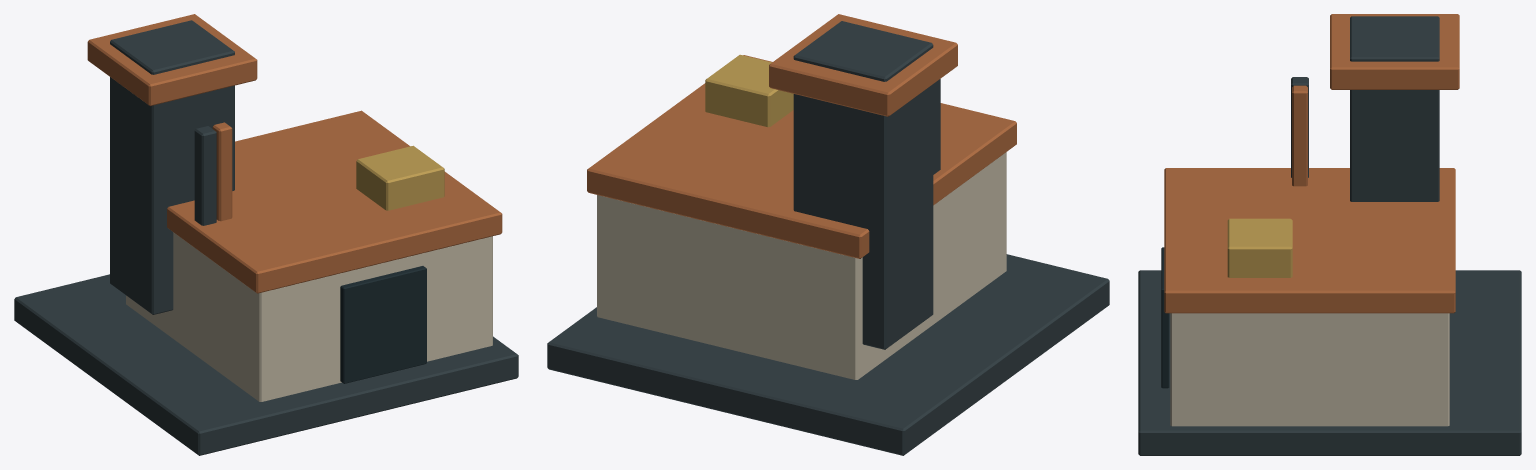
Rendered from mine-lod0.00713751a3a9.glb.
3 renders of one model, left to right at view 1: azimuth 30°, elevation 25°; view 2: azimuth 150°, elevation 25°; view 3: azimuth 270°, elevation 25°, orthographic. The views are drawn at different scales.
Parts seen in each view (by area): view 1: body; view 2: body; view 3: body.
Boxes of the visible parts, x1,y1,x2,y2 form: body: (14,14,518,455); body: (547,14,1109,455); body: (1138,14,1521,455).
Size of the model in its own units: 3.84 by 3.4 by 3.84.
